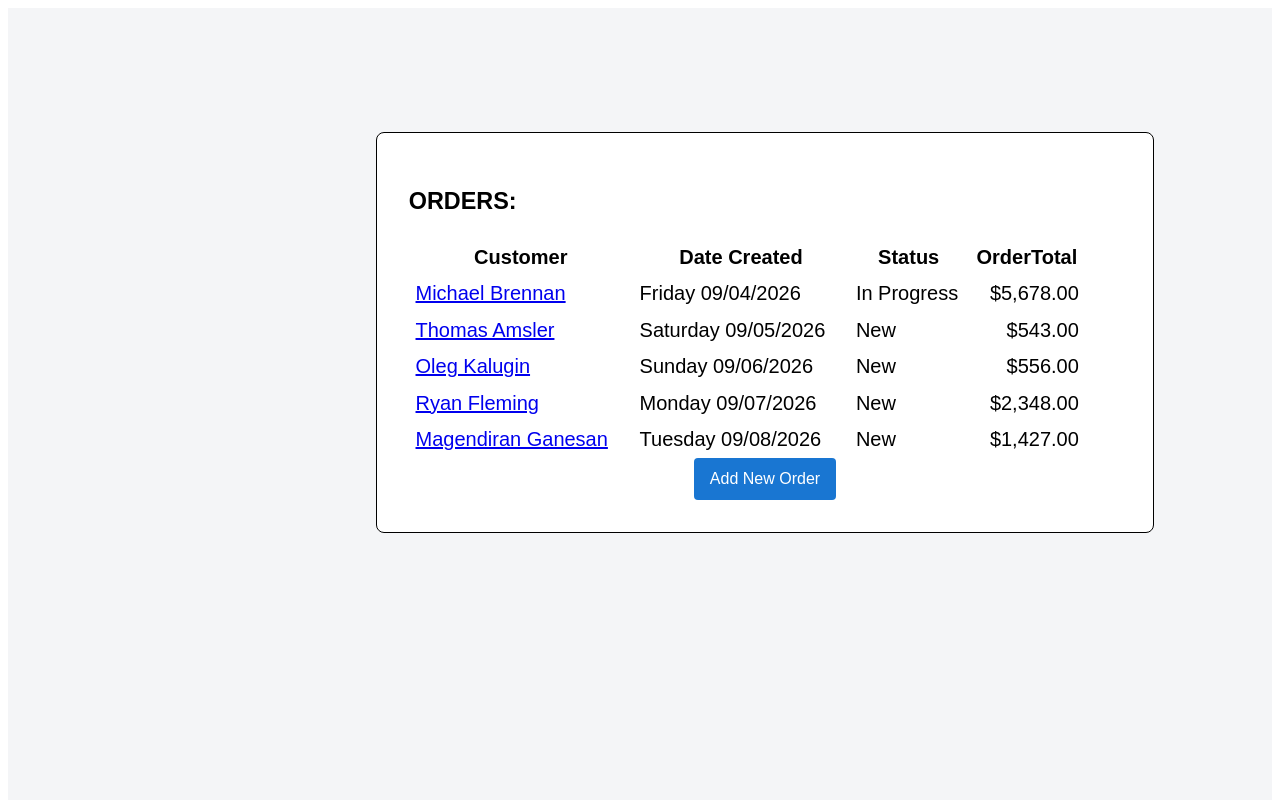
it: Test the Signal forms Practice App › Navigates to the Add Order Page
Click the button with test id "addNewOrderButton" at (766, 479), box x1=694 y1=458 x2=837 y2=500
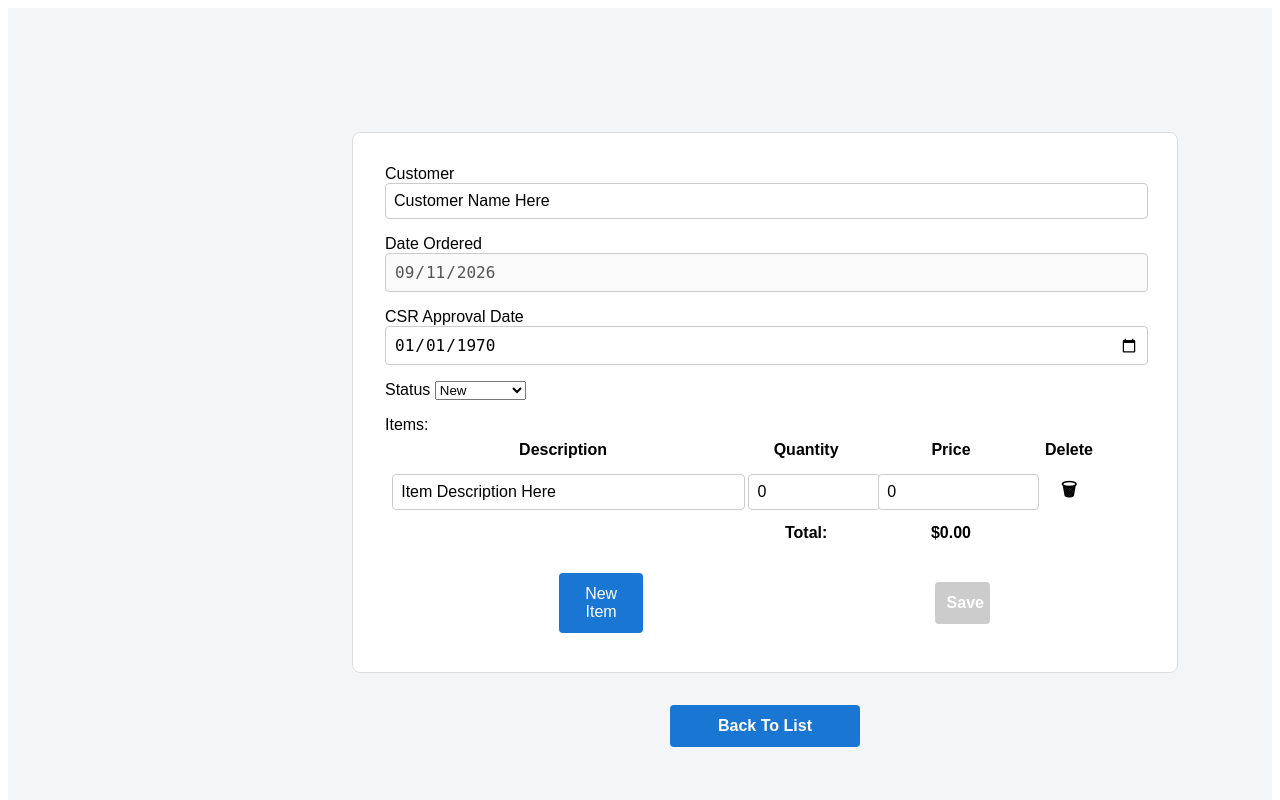
Expected: the field with test id "customerNameInput" holds "Customer Name Here", x1=385 y1=183 x2=1148 y2=219
